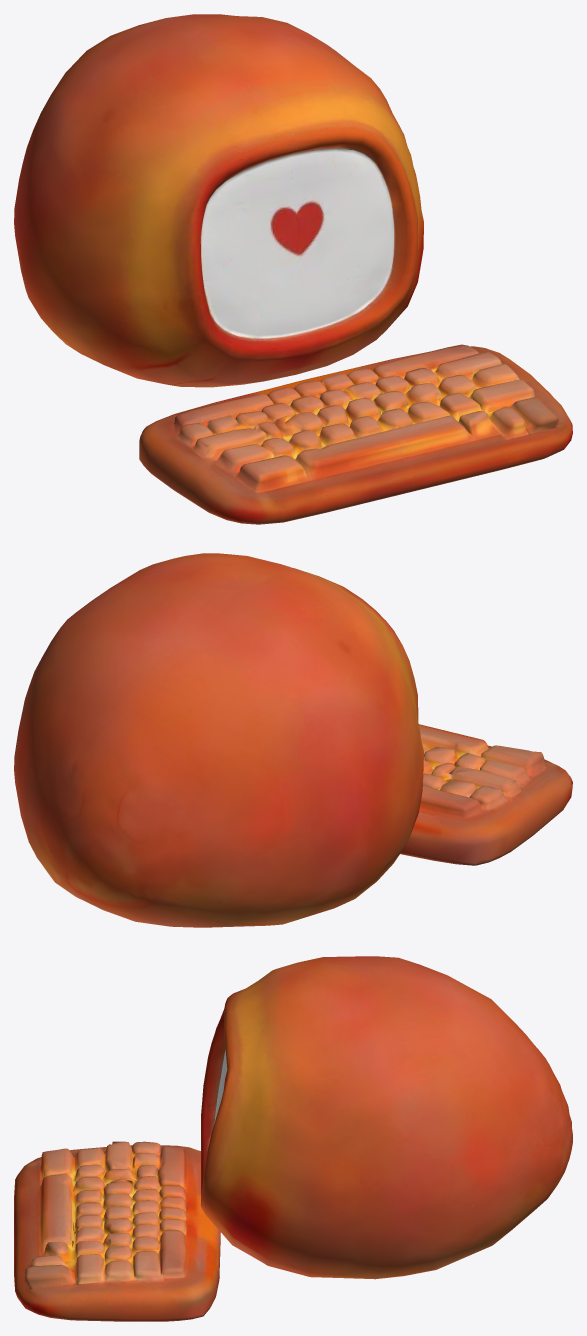
The model's file is computer-transformed.glb.
The picture shows the model from 3 angles, top to bottom: view 1: azimuth 30°, elevation 25°; view 2: azimuth 150°, elevation 25°; view 3: azimuth 270°, elevation 25°; orthographic projection. The views are drawn at different scales.
Bounding box in the file's own units: 1.31 × 1.07 × 2.
Materials: 1 (1 with a texture image).
